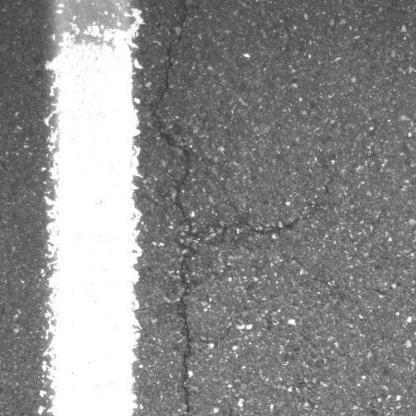Cracks: (150, 0, 207, 416), (215, 202, 305, 241)
